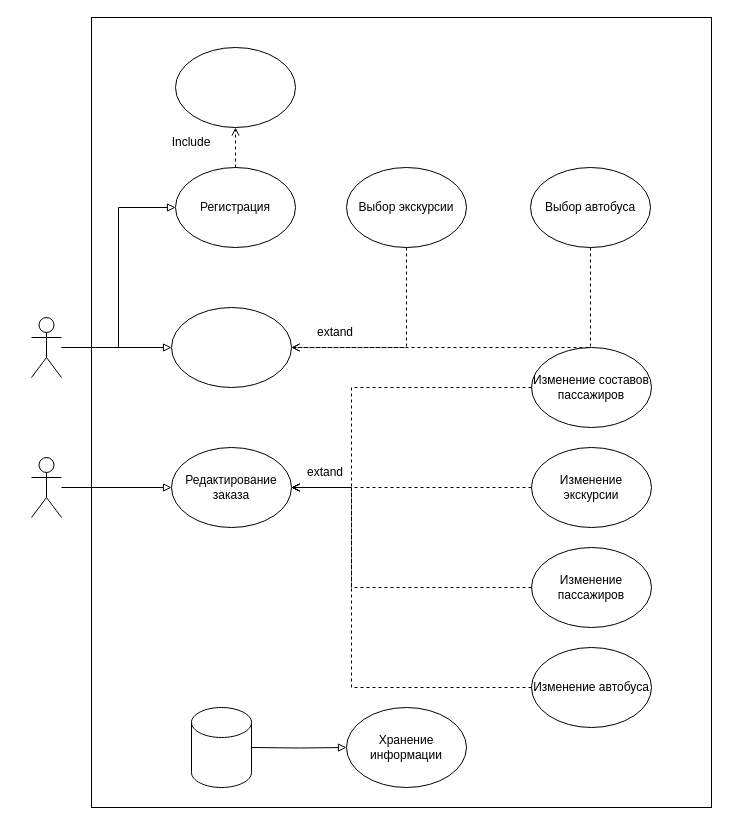
Some shapes in this 729 by 825 pixel diagram are drawn without their labels. The shapes that lost their labels are listed below. From the top down, each one's centre as x and y in pixels, then its label:
At (235,87): "Занесение контактных данных".
At (46,347): "Клиен".
At (231,347): "Создание заказа".
At (46,487): "Менеджер".
At (221,747): "БД".
